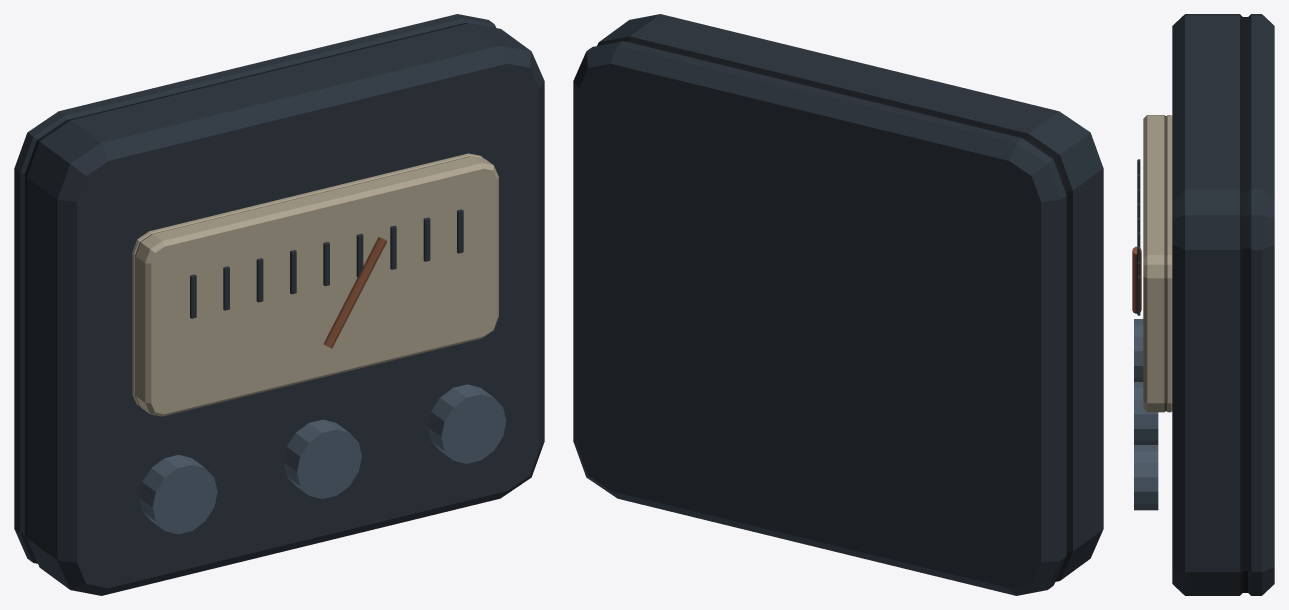
Rendered from F-15_dc_meter.glb.
3 views of the same model, side by side, from view 1: azimuth 30°, elevation 25°; view 2: azimuth 150°, elevation 25°; view 3: azimuth 270°, elevation 25° (orthographic). The views are drawn at different scales.
Parts seen in each view (by area): view 1: F-15_dc_meter; view 2: F-15_dc_meter; view 3: F-15_dc_meter.
Part boxes in pixels (box(x1,y1,x2,y2)): F-15_dc_meter: box(14, 14, 544, 595); F-15_dc_meter: box(573, 14, 1103, 595); F-15_dc_meter: box(1132, 14, 1274, 595).
Size of the model in its own units: 0.54 by 0.48 by 0.153.
